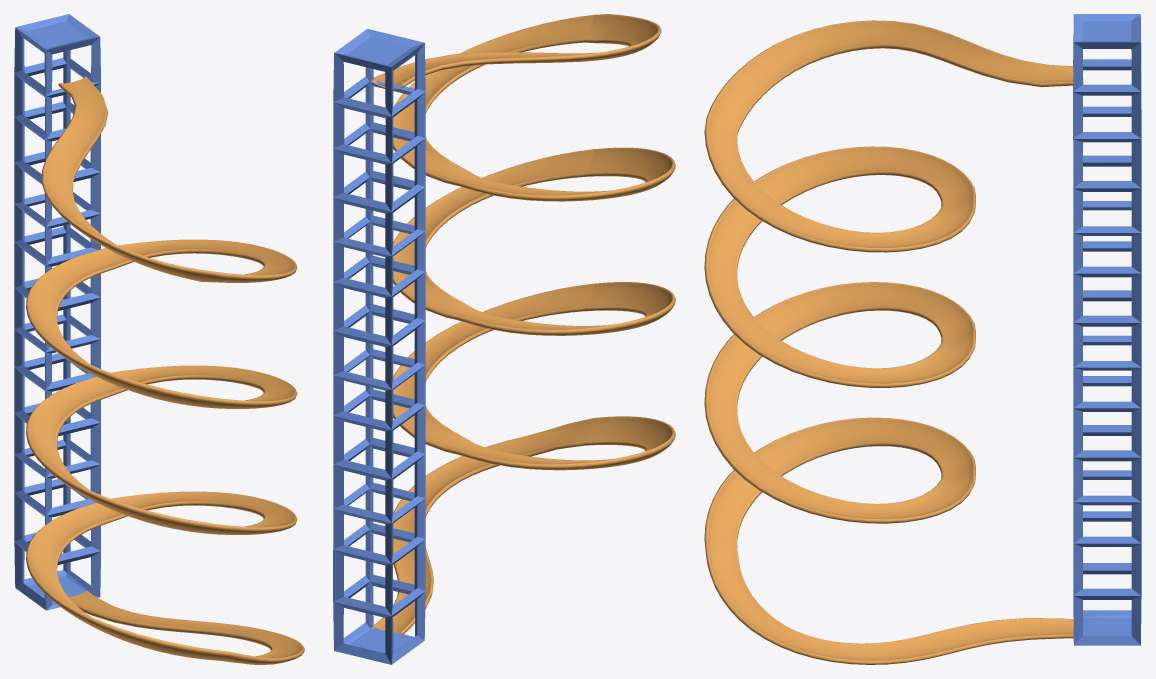
File: road_4.fbx
3 views of the same model, side by side, from view 1: azimuth 30°, elevation 25°; view 2: azimuth 150°, elevation 25°; view 3: azimuth 270°, elevation 25° (orthographic). The views are drawn at different scales.
Parts seen in each view (by area): view 1: road_4, elevator_4; view 2: road_4, elevator_4; view 3: road_4, elevator_4.
Part boxes in pixels (left/top/right/bottom): road_4: left=26, top=76, right=304, bottom=664; elevator_4: left=14, top=14, right=100, bottom=610; road_4: left=371, top=14, right=675, bottom=635; elevator_4: left=333, top=29, right=425, bottom=664; road_4: left=704, top=20, right=1083, bottom=664; elevator_4: left=1073, top=14, right=1141, bottom=645.
Bounding box in the file's own units: 3686 × 8158 × 5351.
